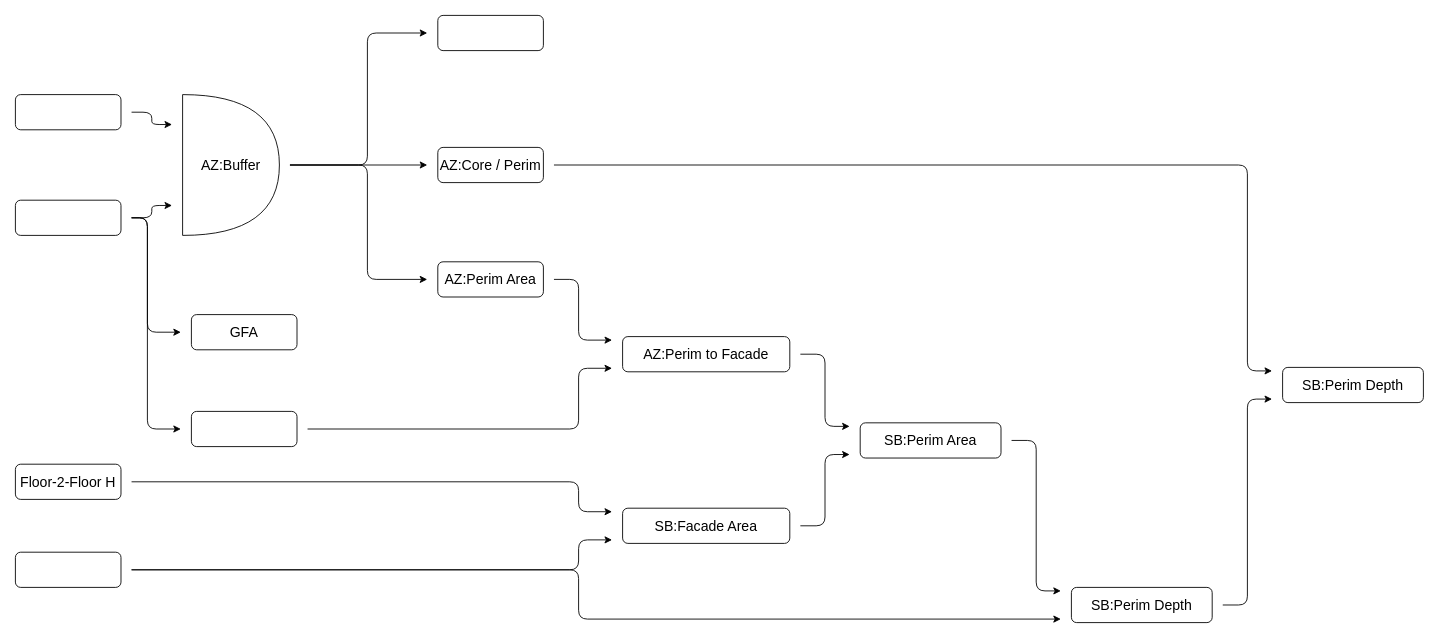
The diagram is 1439 pixels wide and 642 high, and some of its shapes have lost their labels. Each missing label, with the centre of its shape:
"AZ:Core Area" belongs at [490,33].
"Bldg GIS FP" belongs at [68,217].
"Facade Area" belongs at [244,429].
"Perim Offset" belongs at [68,112].
"SB Width" belongs at [68,569].
